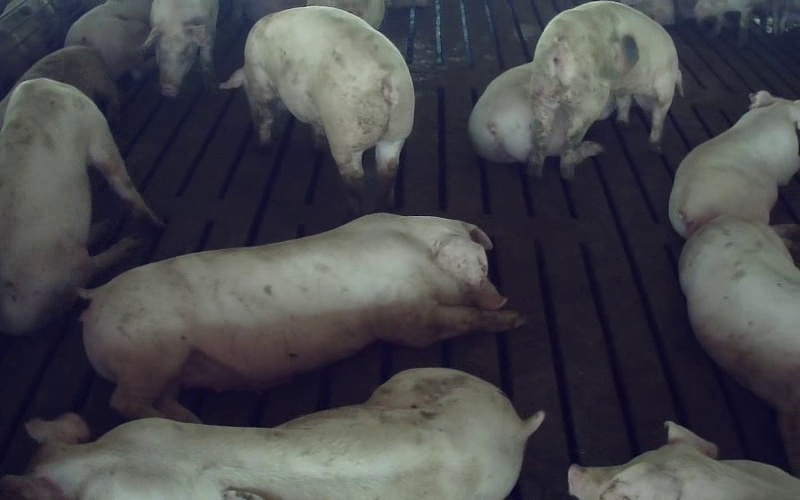pig: (82, 213, 523, 420), (0, 368, 543, 499), (0, 78, 159, 334), (222, 8, 412, 210), (530, 2, 680, 176), (679, 217, 799, 411), (669, 91, 799, 237), (568, 421, 799, 499)
